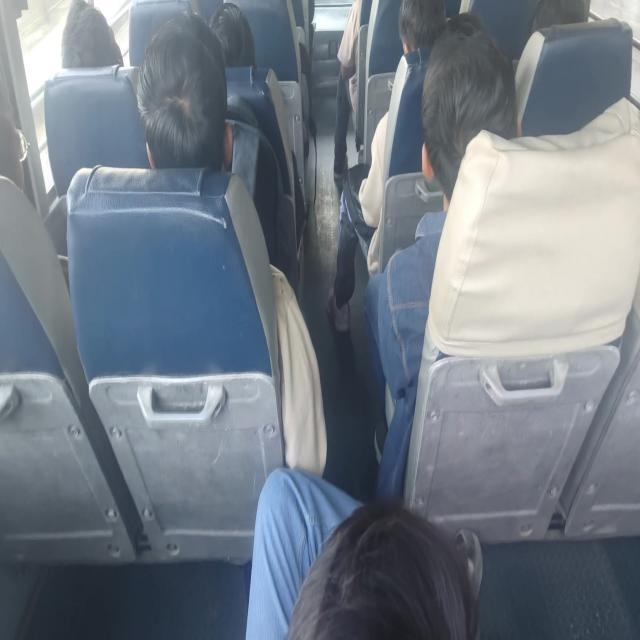person: (136, 9, 328, 475), (363, 12, 519, 498), (245, 465, 483, 639), (326, 0, 446, 332), (136, 10, 234, 171), (332, 0, 361, 182), (60, 0, 124, 69), (208, 2, 255, 67), (530, 0, 590, 34)
